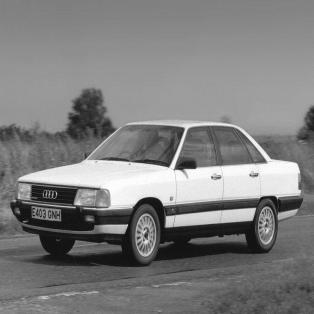Auto: (9, 117, 306, 269)
